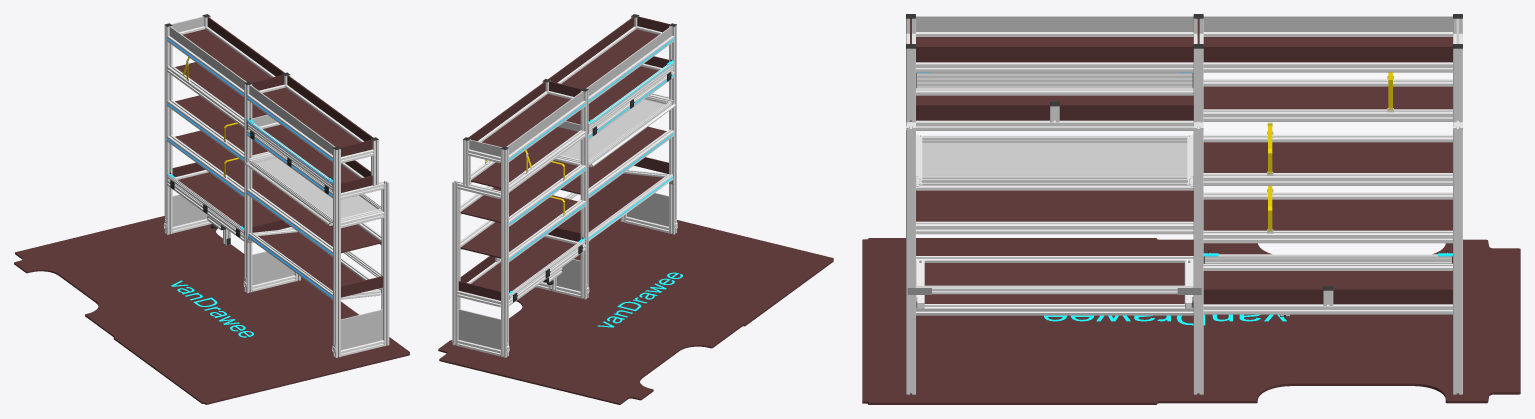
The model's file is vd_export_renault_master_l2h2_3682_mm_d14fad8e.glb.
The picture shows the model from 3 angles, left to right: view 1: azimuth 30°, elevation 25°; view 2: azimuth 150°, elevation 25°; view 3: azimuth 270°, elevation 25°; orthographic projection. The views are drawn at different scales.
Parts seen in each view (by area): view 1: SomeName_Mesh_0043_2, PR10_1266x395 (×4), PR10_1266x306 (×4), 45x45x1267_Zx2_2 (×7), 45x45x1700_noha (×3), CUB10_395x260 (×3), PR10_1208x388, CUB6_1215x413, CUB10_1292x89 (×2), PR10_1292x89 (×2), 45x45x1330_noha, 20x80x1258 (+9 smaller); view 2: SomeName_Mesh_0043_2, PR10_1266x395 (×4), PR10_1266x306 (×4), 45x45x1267_Zx2_2 (×7), 45x45x1700_noha (×3), CUB10_395x260 (×3), PR10_1208x388, CUB10_1292x89 (×2), PR10_1292x89 (×2), CUB6_1215x413, 45x45x1330_noha, 20x80x1258 (+9 smaller); view 3: SomeName_Mesh_0043_2, PR10_1266x395 (×4), 45x45x1267_Zx2 (×8), 45x45x1267_Zx2_2 (×8), PR10_1266x306 (×4), PR10_1292x89 (×2), CUB6_1215x413, PR10_1208x388, CUB10_1292x89 (×2), 45x45x1330_noha (×3), 20x80x1258, 40x40x1266 (+11 smaller).
Part boxes in pixels (<box>): SomeName_Mesh_0043_2: <box>14,216,409,404</box>; PR10_1266x395 (×4): <box>175,95,381,253</box>; PR10_1266x306 (×4): <box>175,29,359,182</box>; 45x45x1267_Zx2_2 (×7): <box>167,36,332,256</box>; 45x45x1700_noha (×3): <box>164,25,340,357</box>; CUB10_395x260 (×3): <box>172,194,382,350</box>; PR10_1208x388: <box>258,232,363,290</box>; CUB6_1215x413: <box>256,158,377,218</box>; CUB10_1292x89 (×2): <box>169,26,334,154</box>; PR10_1292x89 (×2): <box>207,17,373,141</box>; 45x45x1330_noha: <box>381,181,389,346</box>; 20x80x1258: <box>247,120,332,191</box>; SomeName_Mesh_0043_2: <box>438,218,833,404</box>; PR10_1266x395 (×4): <box>460,126,666,290</box>; PR10_1266x306 (×4): <box>471,29,658,188</box>; 45x45x1267_Zx2_2 (×7): <box>509,36,674,262</box>; 45x45x1700_noha (×3): <box>501,25,676,357</box>; CUB10_395x260 (×3): <box>458,192,668,351</box>; PR10_1208x388: <box>557,173,662,232</box>; CUB10_1292x89 (×2): <box>506,26,672,154</box>; PR10_1292x89 (×2): <box>468,17,634,141</box>; CUB6_1215x413: <box>561,99,664,160</box>; 45x45x1330_noha: <box>452,181,460,345</box>; 20x80x1258: <box>589,62,673,133</box>; SomeName_Mesh_0043_2: <box>862,238,1520,404</box>; PR10_1266x395 (×4): <box>916,142,1452,288</box>; 45x45x1267_Zx2 (×8): <box>916,62,1452,270</box>; 45x45x1267_Zx2_2 (×8): <box>916,32,1452,314</box>; PR10_1266x306 (×4): <box>916,37,1452,109</box>; PR10_1292x89 (×2): <box>916,46,1452,62</box>; CUB6_1215x413: <box>921,143,1187,182</box>; PR10_1208x388: <box>924,263,1184,303</box>; CUB10_1292x89 (×2): <box>916,16,1452,31</box>; 45x45x1330_noha (×3): <box>906,128,1462,394</box>; 20x80x1258: <box>917,72,1192,88</box>; 40x40x1266: <box>916,304,1193,315</box>.
Bounding box in the file's own units: 1777 × 1719 × 3004.
